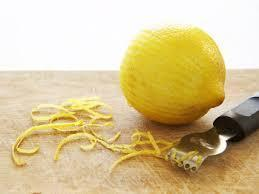lemon: (118, 24, 226, 126)
